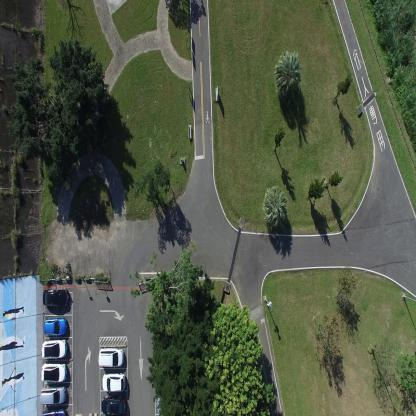car: (40, 361, 67, 384), (97, 346, 125, 368), (41, 338, 68, 360), (39, 383, 67, 404), (101, 394, 127, 415), (43, 316, 69, 336), (42, 288, 68, 307), (102, 372, 125, 392), (41, 405, 66, 415)
